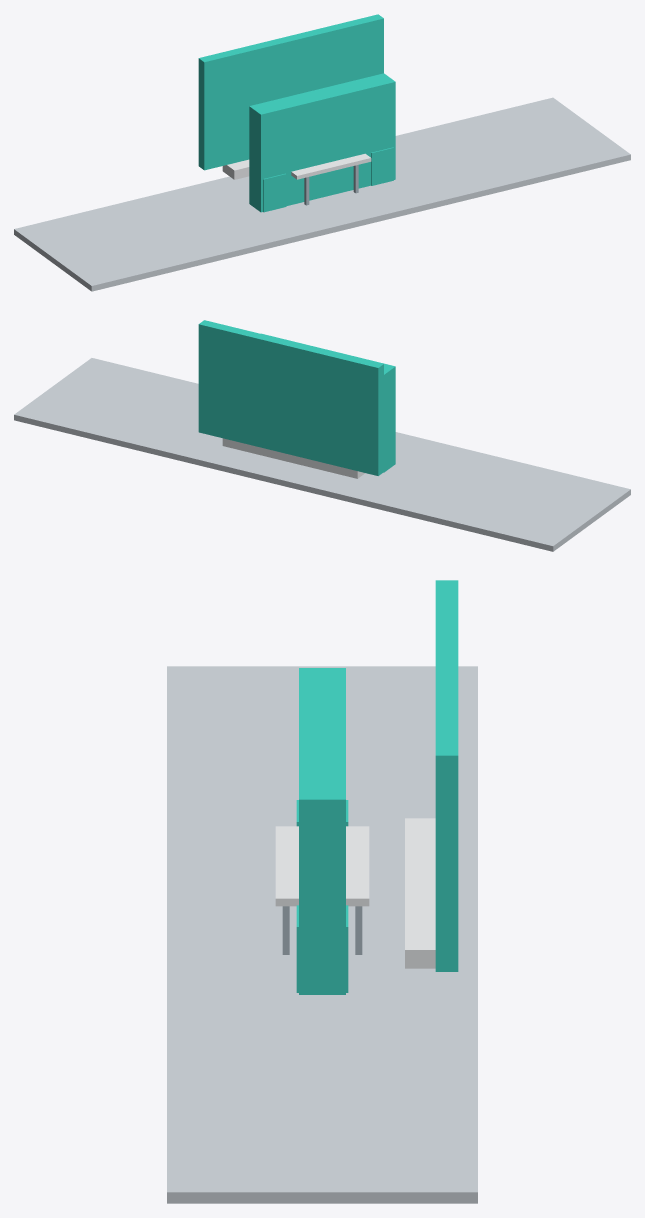
3 renders of one model, top to bottom at view 1: azimuth 30°, elevation 25°; view 2: azimuth 150°, elevation 25°; view 3: azimuth 270°, elevation 25°, orthographic. The views are drawn at different scales.
Visible parts, largest first — view 1: Exhibition Booth Concept; view 2: Exhibition Booth Concept; view 3: Exhibition Booth Concept.
Part boxes in pixels (x1,y1,x2,y2): Exhibition Booth Concept: (14, 14, 630, 291); Exhibition Booth Concept: (14, 320, 630, 551); Exhibition Booth Concept: (167, 580, 477, 1203).
Bounding box in the file's own units: 12 × 2.9 × 3.
